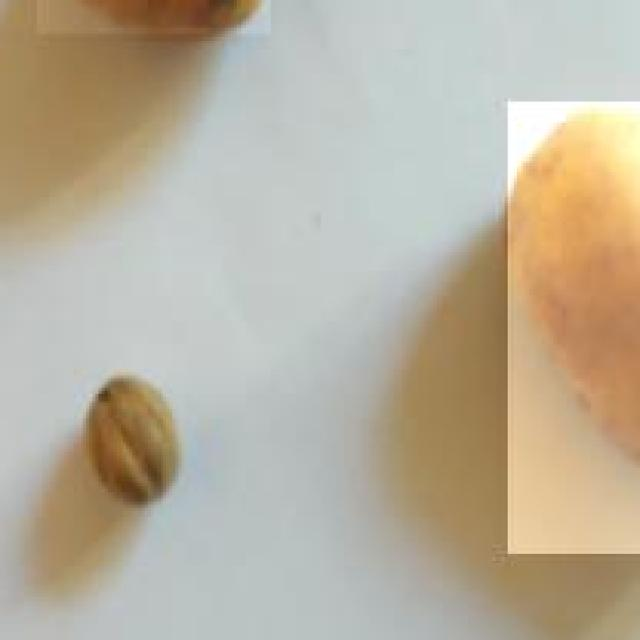potato: (504, 101, 640, 556)
